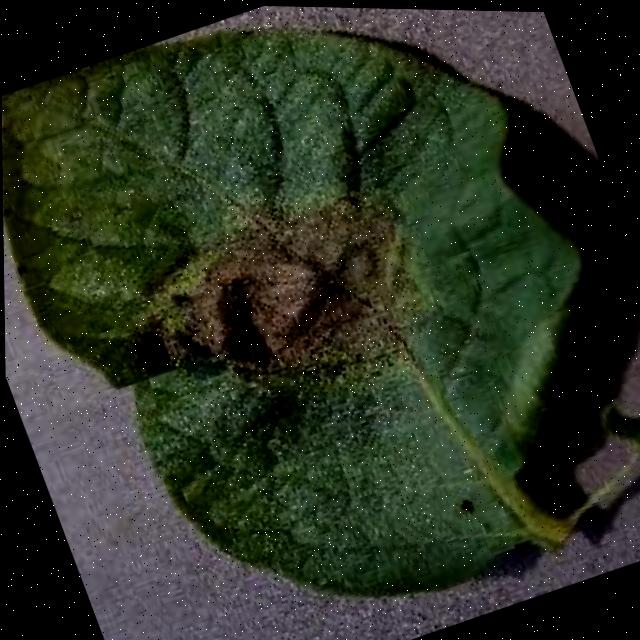Late_blight: (83, 147, 487, 450)
